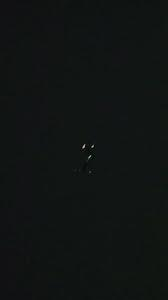Plane: (66, 128, 108, 194)
